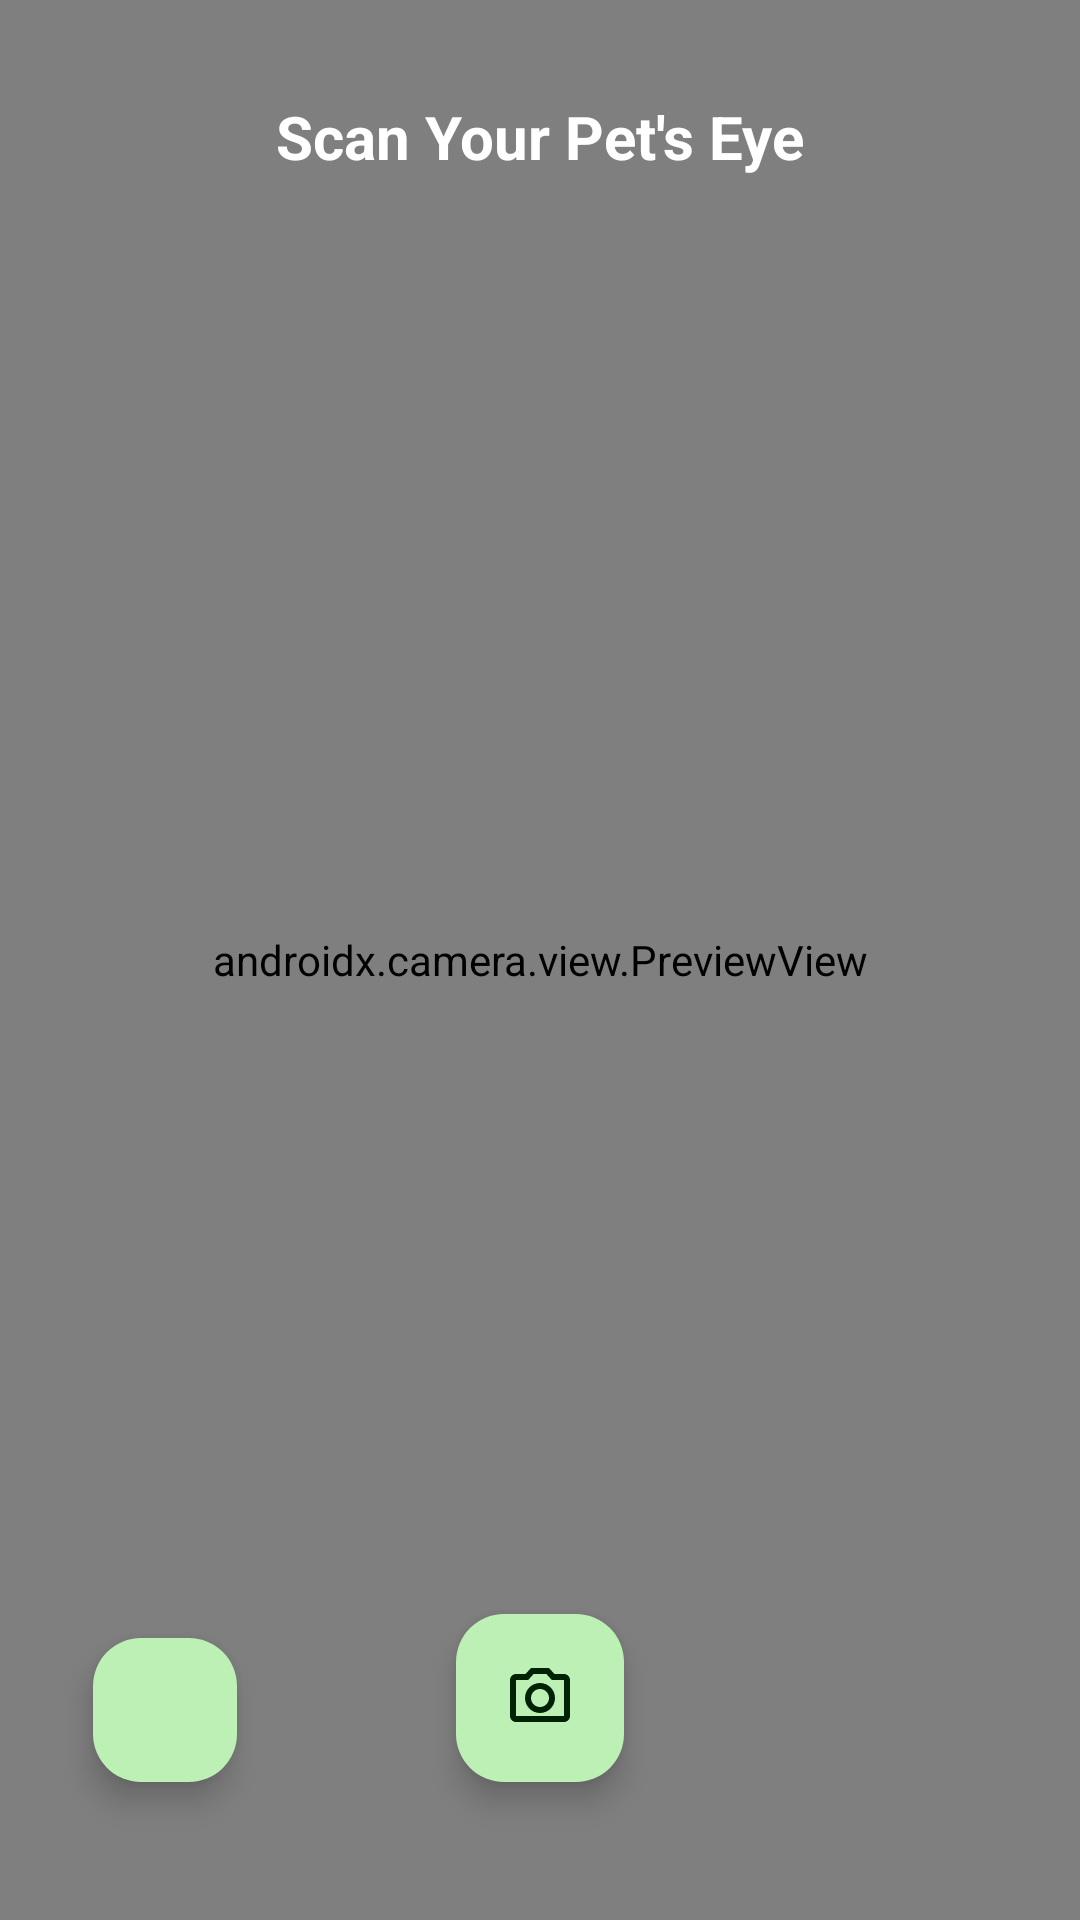

Icons on this 1080x1920 Android screen, each with its box as box(x1, y1, x2, y2):
Take picture: box(456, 1614, 624, 1782)
